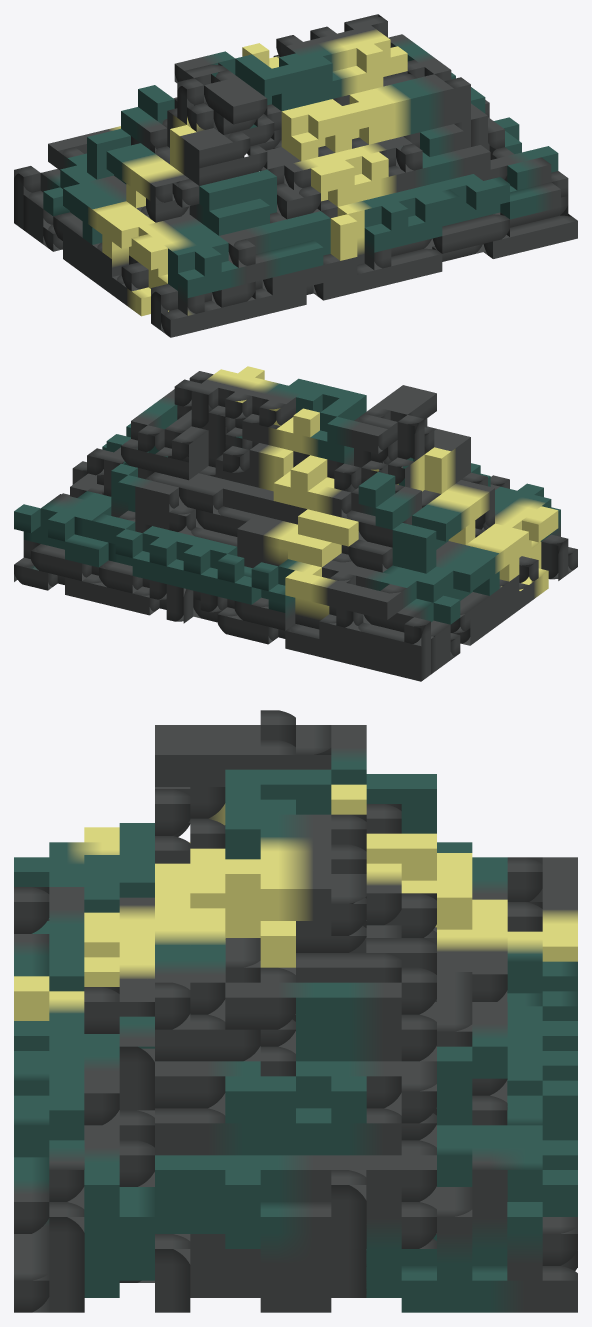
File: GoldOre1.obj
3 renders of one model, top to bottom at view 1: azimuth 30°, elevation 25°; view 2: azimuth 150°, elevation 25°; view 3: azimuth 270°, elevation 25°, orthographic. The views are drawn at different scales.
Visible parts, largest first — view 1: Model; view 2: Model; view 3: Model.
Part boxes in pixels (box(x1,y1,x2,y2)): Model: box(14, 14, 577, 337); Model: box(14, 366, 577, 681); Model: box(14, 710, 577, 1312).
Bounding box in the file's own units: 6 × 2.5 × 4.
Materials: 1 (1 with a texture image).
